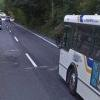Bus: (57, 9, 100, 100)
